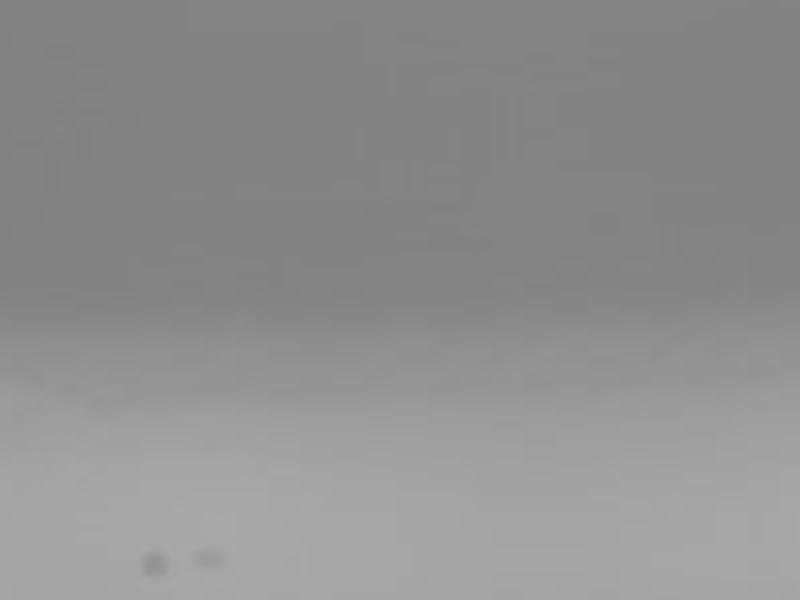defect: (139, 548, 175, 578), (192, 544, 229, 567)
